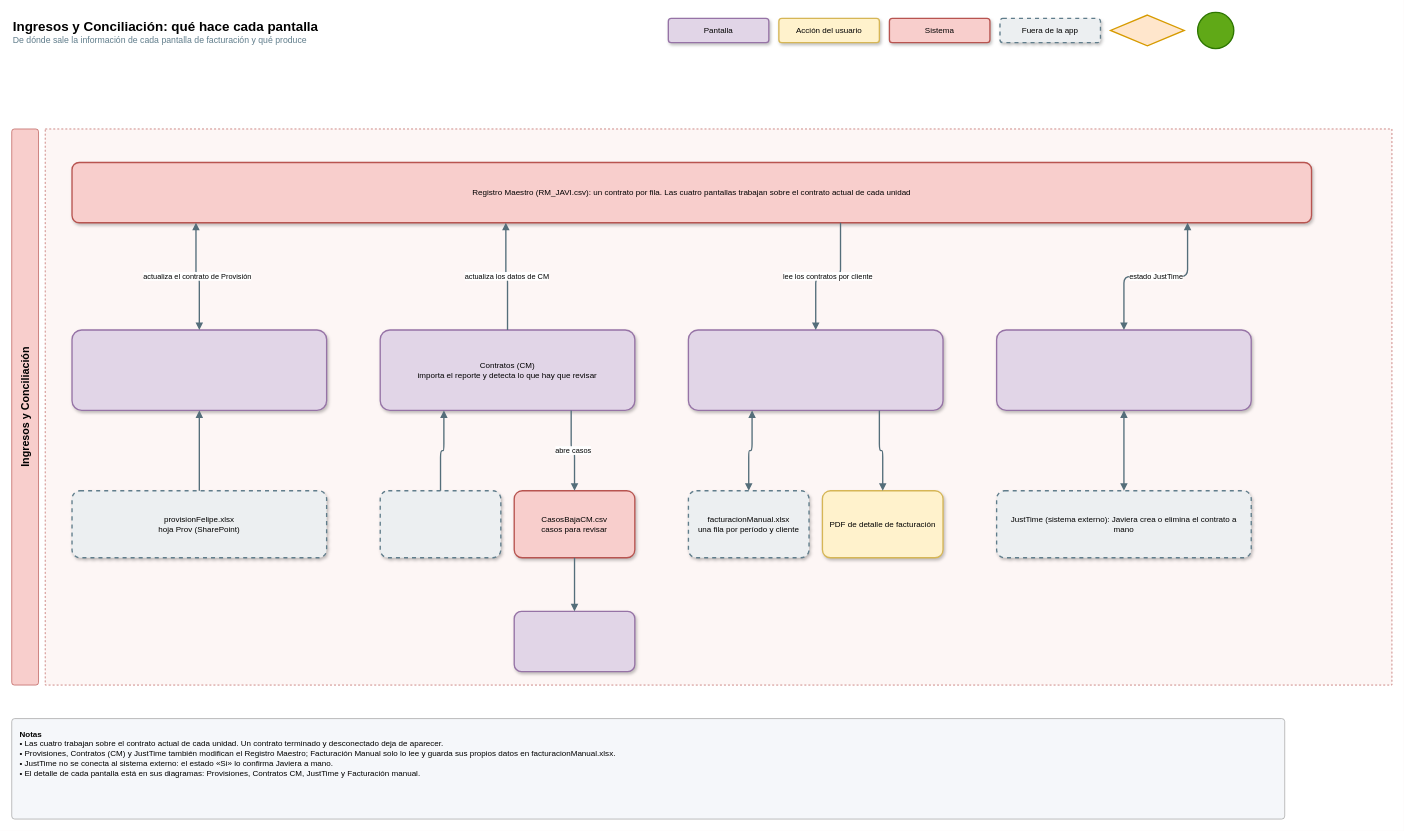
This 1404x831 diagram has some shape labels left out. Each missing label, with the centre of its shape:
Comercial › Oportunidades CM: avisar a quien administra los CM: [575,642]
Decisión: [1147,30]
Facturación Manual precio, total y PDF por cliente: [816,370]
INICIO: [1215,30]
JustTime ¿la unidad ya está creada para facturar?: [1124,370]
Provisiones cuánto se provisiona y cuánto se desvía: [199,370]
Reporte mensual 3PC (Excel de contratos de mantenimiento): [441,525]
